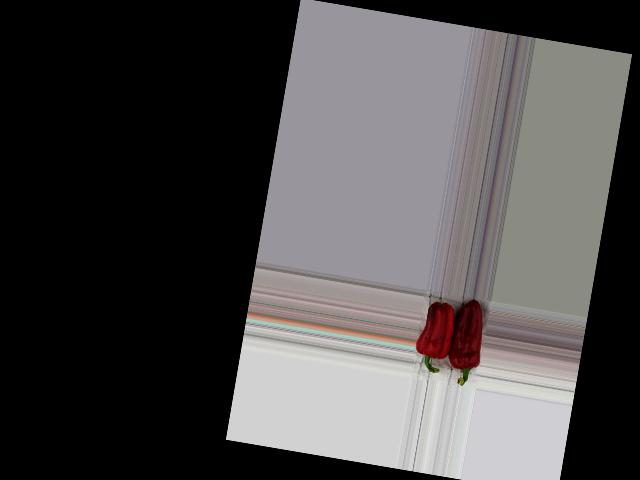bell_pepper: (442, 296, 489, 390)
